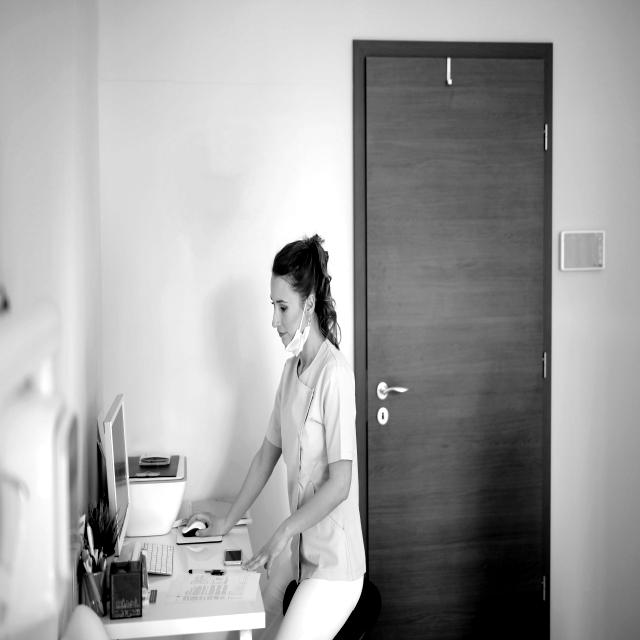No-Vest: (280, 362, 364, 582)
